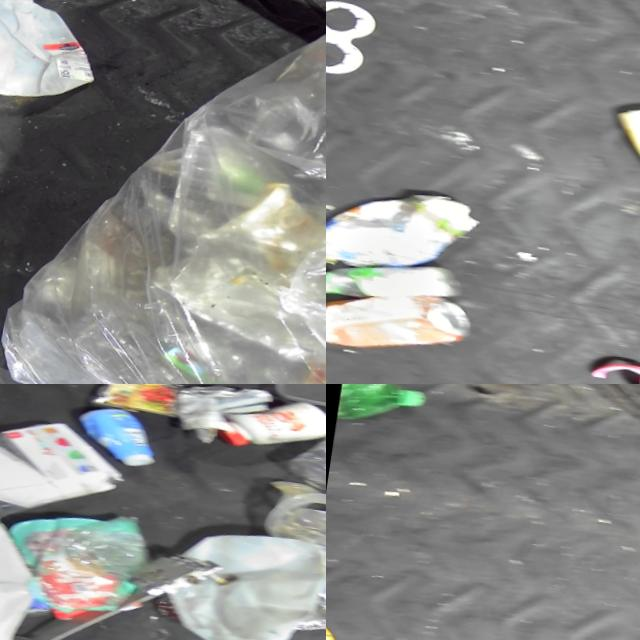can: (326, 272, 476, 366)
milk_jug: (160, 512, 326, 640), (0, 0, 105, 110), (0, 502, 43, 640)
plastic_bottle: (282, 397, 326, 502)
